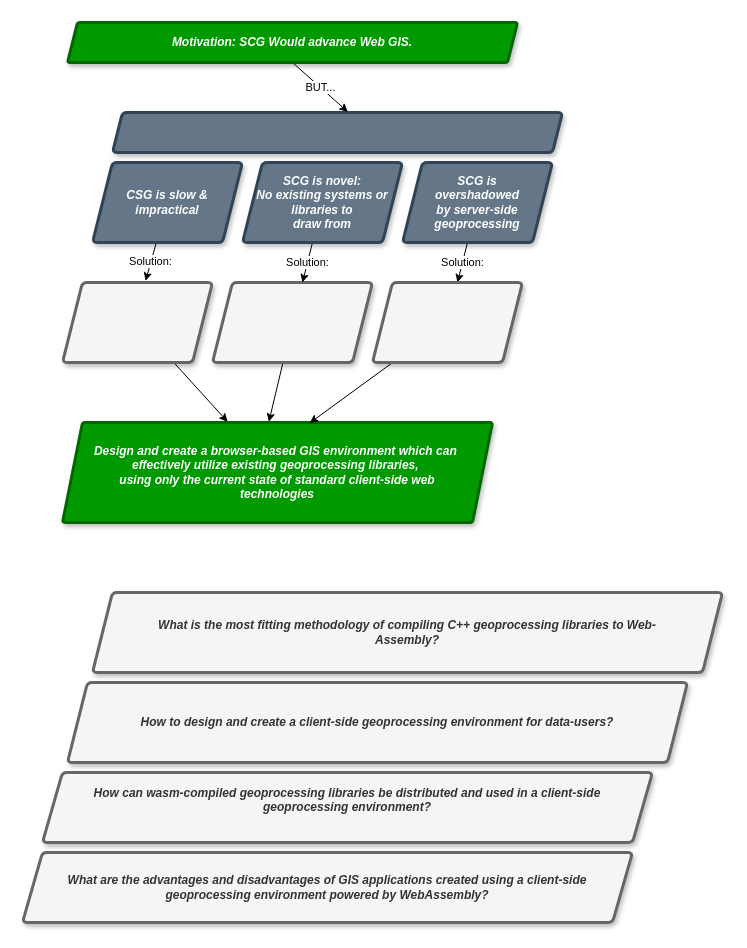
Some shapes in this 747 by 948 pixel diagram are drawn without their labels. The shapes that lost their labels are listed below. From the top down, each one's centre as x and y in pixels, then its label:
At (x=338, y=133): "Problem: Adoption of SCG is held back by three obstacles".
At (x=138, y=323): "Discover if wasm can improve performance".
At (x=293, y=323): "Perform pioneering work & Connect to existing ecosystems using wasm".
At (x=448, y=323): "Show how SCG is advantageous in certain situations".
